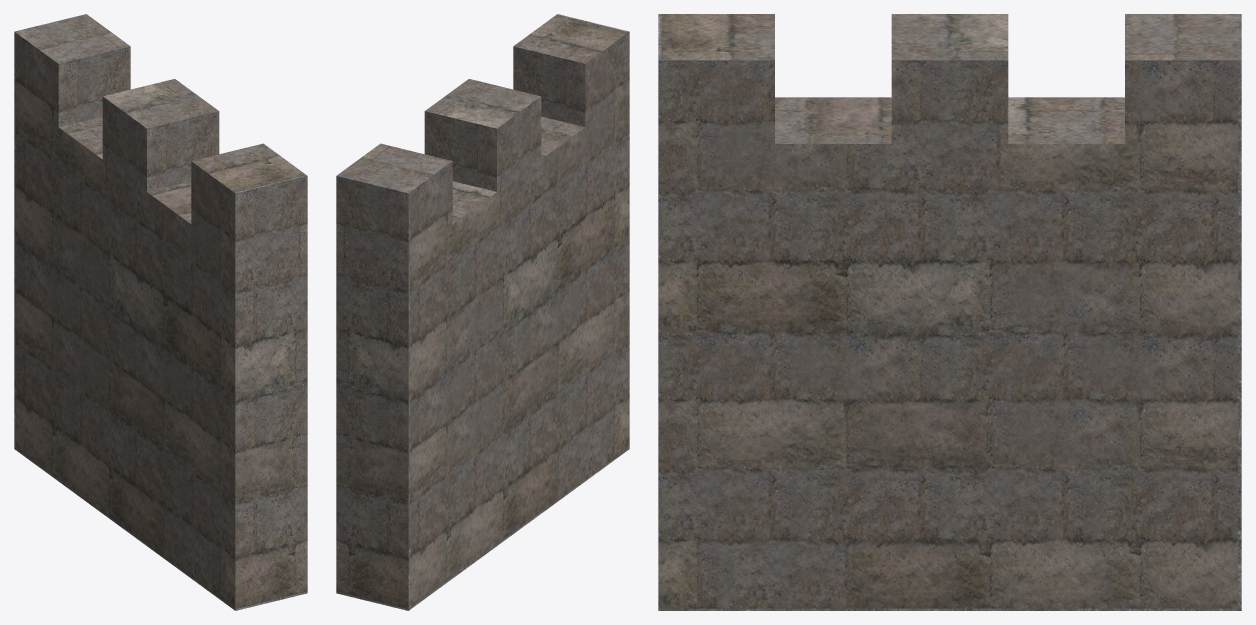
File: brickWall.fbx
3 renders of one model, left to right at view 1: azimuth 30°, elevation 25°; view 2: azimuth 150°, elevation 25°; view 3: azimuth 270°, elevation 25°, orthographic. The views are drawn at different scales.
Visible parts, largest first — view 1: pCube336; view 2: pCube336; view 3: pCube336.
Part boxes in pixels (<box>): pCube336: <box>14,14,307,610</box>; pCube336: <box>336,14,629,610</box>; pCube336: <box>658,14,1241,610</box>.
Size of the model in its own units: 1.9 by 10.52 by 10.1.
1 material, 1 textured.
